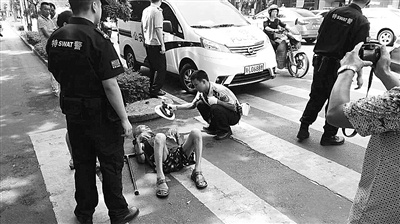falling: (127, 117, 213, 196)
